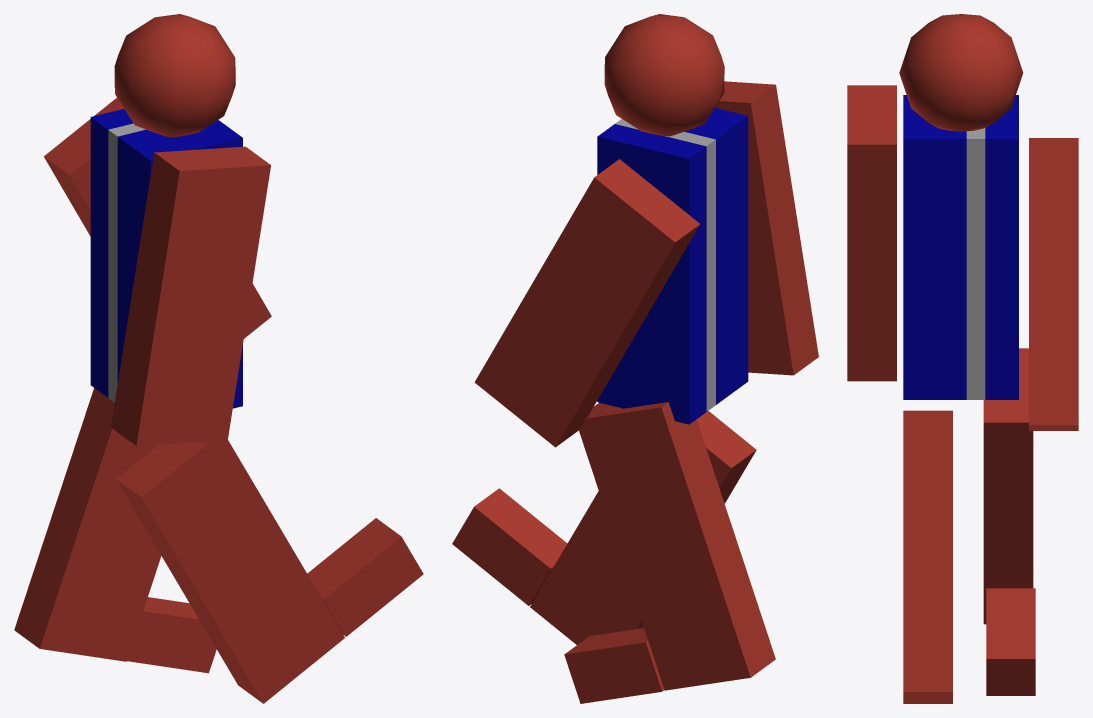
File: player_000015.obj
3 views of the same model, side by side, from view 1: azimuth 30°, elevation 25°; view 2: azimuth 150°, elevation 25°; view 3: azimuth 270°, elevation 25° (orthographic). The views are drawn at different scales.
Visible parts, largest first — view 1: Cube.005, Cube.001, Cube.002, Cube, Icosphere, Cube.003, Cube.004, Cube.006; view 2: Cube.002, Cube.006, Cube, Cube.005, Icosphere, Cube.001, Cube.003, Cube.004; view 3: Cube, Cube.005, Cube.006, Cube.001, Icosphere, Cube.002, Cube.004, Cube.003.
Boxes of the visible parts, x1,y1,x2,y2 form: Cube.005: (111, 146, 270, 445); Cube.001: (116, 440, 344, 703); Cube.002: (14, 388, 161, 661); Cube: (90, 109, 242, 408); Icosphere: (114, 14, 235, 137); Cube.003: (307, 518, 423, 636); Cube.004: (127, 597, 216, 673); Cube.006: (44, 98, 271, 338); Cube.002: (579, 402, 775, 690); Cube.006: (474, 159, 700, 447); Cube: (597, 108, 748, 424); Cube.005: (715, 81, 818, 375); Icosphere: (604, 14, 724, 136); Cube.001: (530, 411, 756, 644); Cube.003: (452, 488, 567, 605); Cube.004: (564, 628, 664, 703); Cube: (903, 95, 1018, 399); Cube.005: (847, 85, 896, 381); Cube.006: (1029, 138, 1078, 430); Cube.001: (903, 410, 952, 703); Icosphere: (899, 14, 1023, 131); Cube.002: (983, 348, 1033, 624); Cube.004: (986, 588, 1035, 695); Cube.003: (903, 639, 952, 697).
Bounding box in the file's own units: 1.52 × 2.87 × 0.9137.
